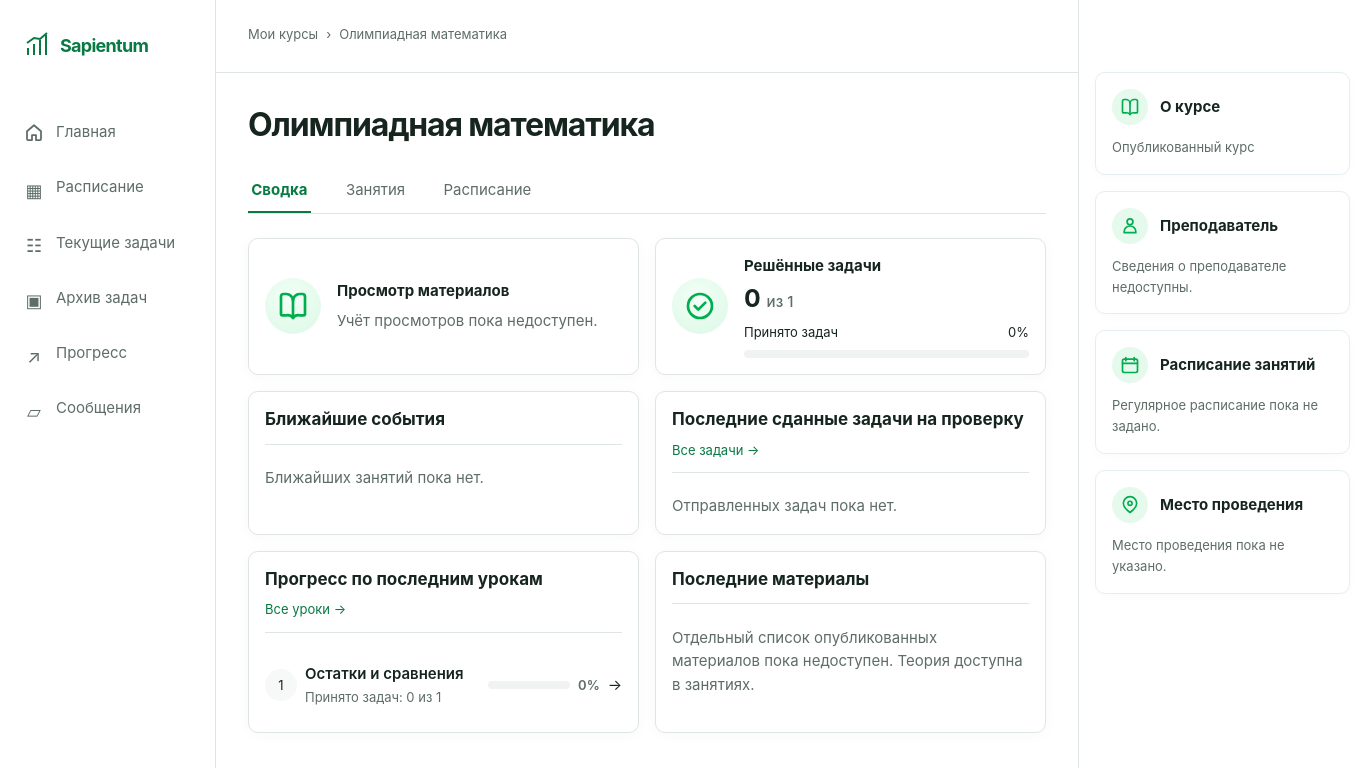
M1-07 student study views › shows the summary, own accepted-task progress and existing lessons on tab switch
Expected: the heading "Олимпиадная математика" is shown, [248,105,654,145]
Expected: the text "Отправленных задач пока нет." is shown, [672,496,897,515]
Click the link "Занятия": click(376, 190) [346,180,405,199]
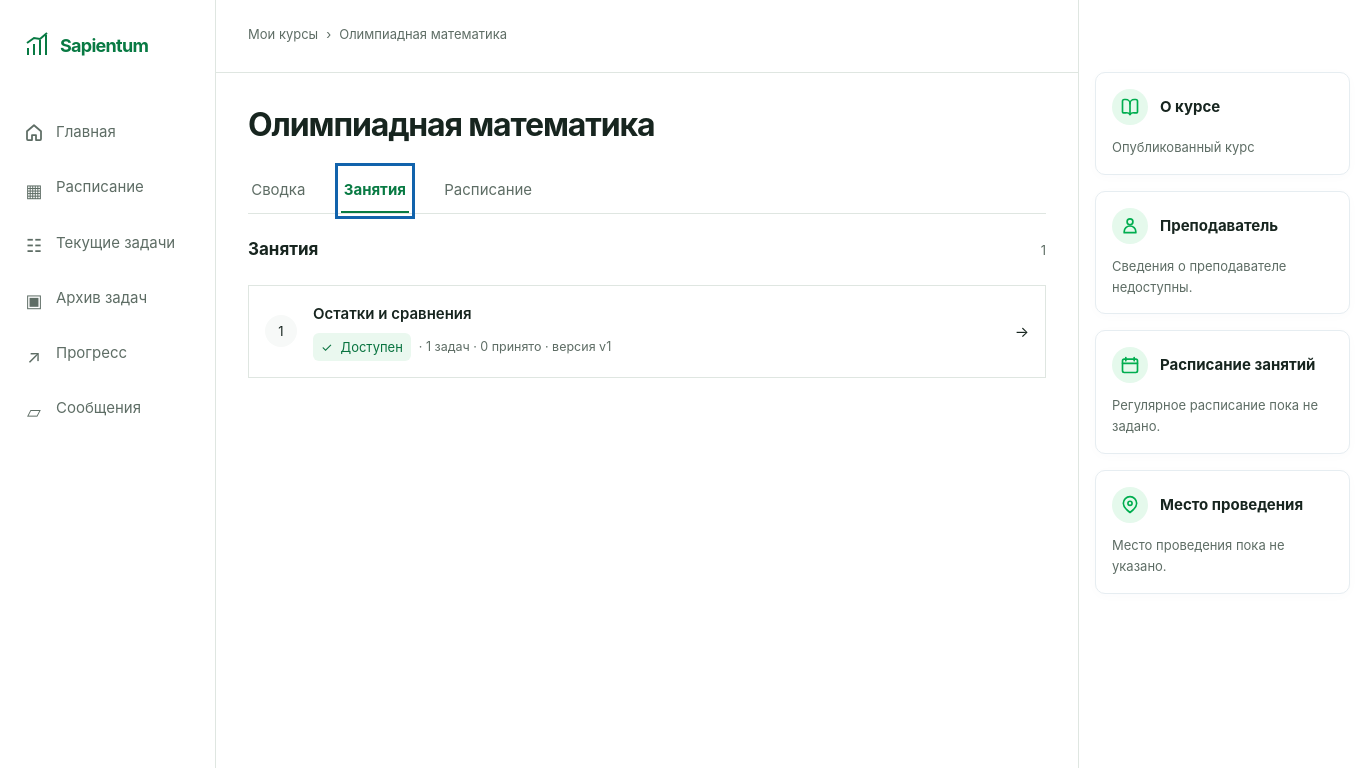
Now the text "✓ Доступен · 1 задач · 0 принято · версия v1" is shown, box [313,333,611,361]
